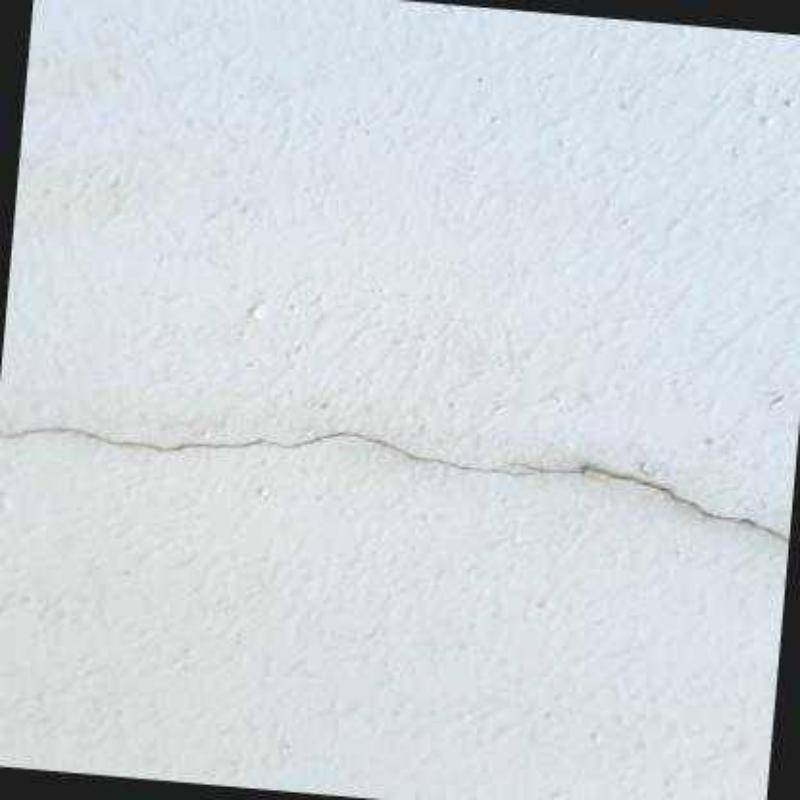crack: (0, 424, 532, 475), (501, 460, 790, 541)
